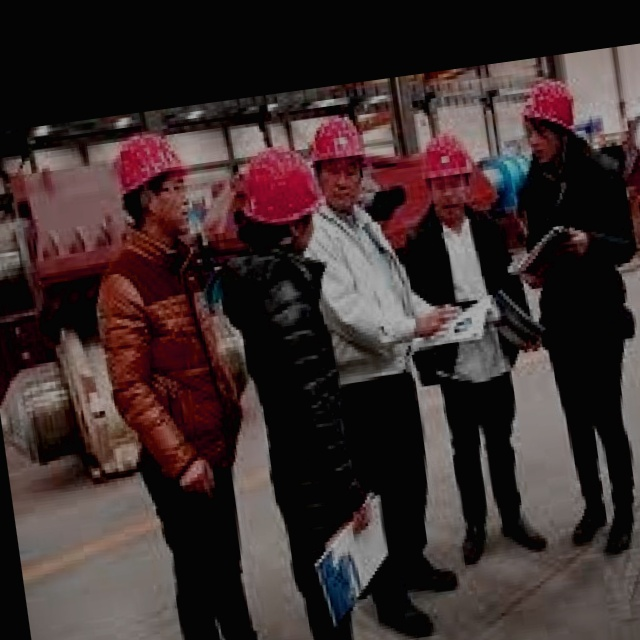Con_Casco: (419, 127, 479, 228)
